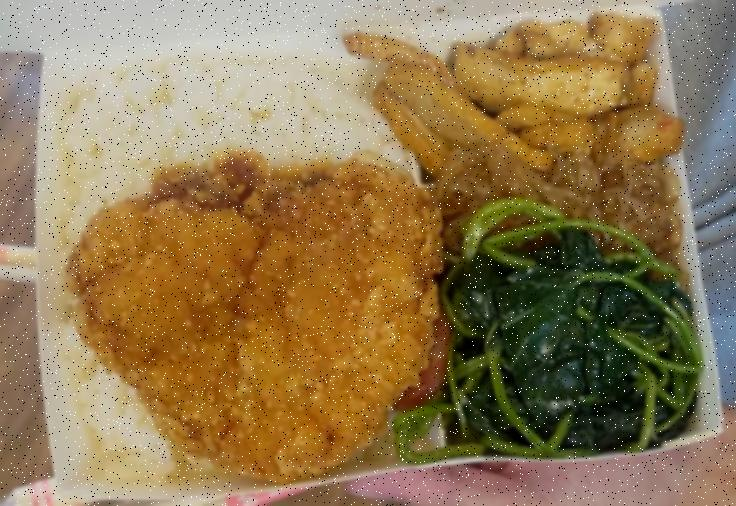big grilled chicken leg: (20, 10, 724, 497)
big herbal chicken leg: (59, 53, 416, 465)
braised fish fillet: (450, 224, 700, 452), (349, 28, 682, 174), (432, 149, 688, 275)
braised pork: (69, 164, 439, 476)
